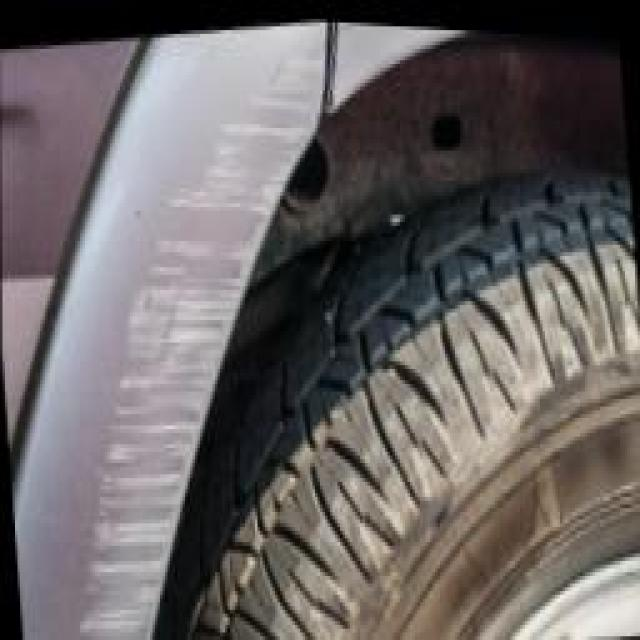Fender: (19, 16, 394, 640)
